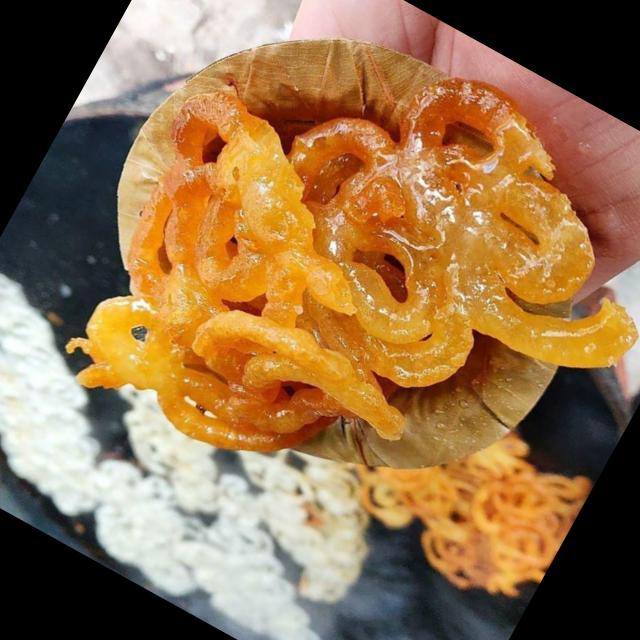jalebi: (55, 0, 636, 547)
